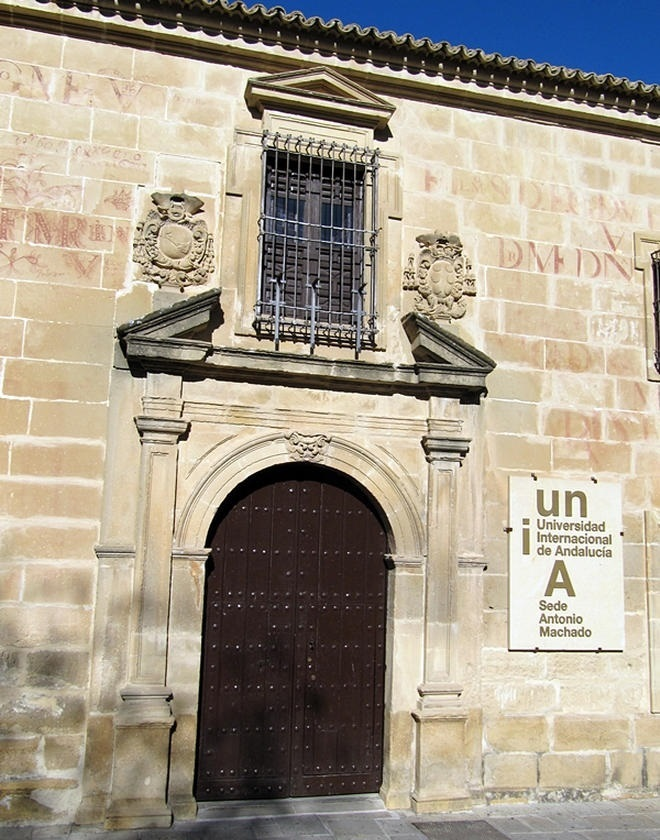arco-medio-punto: (172, 426, 434, 570)
fronton: (244, 59, 402, 125)
fronton-partido: (111, 286, 503, 396)
vano-adintelado: (211, 117, 405, 372)
